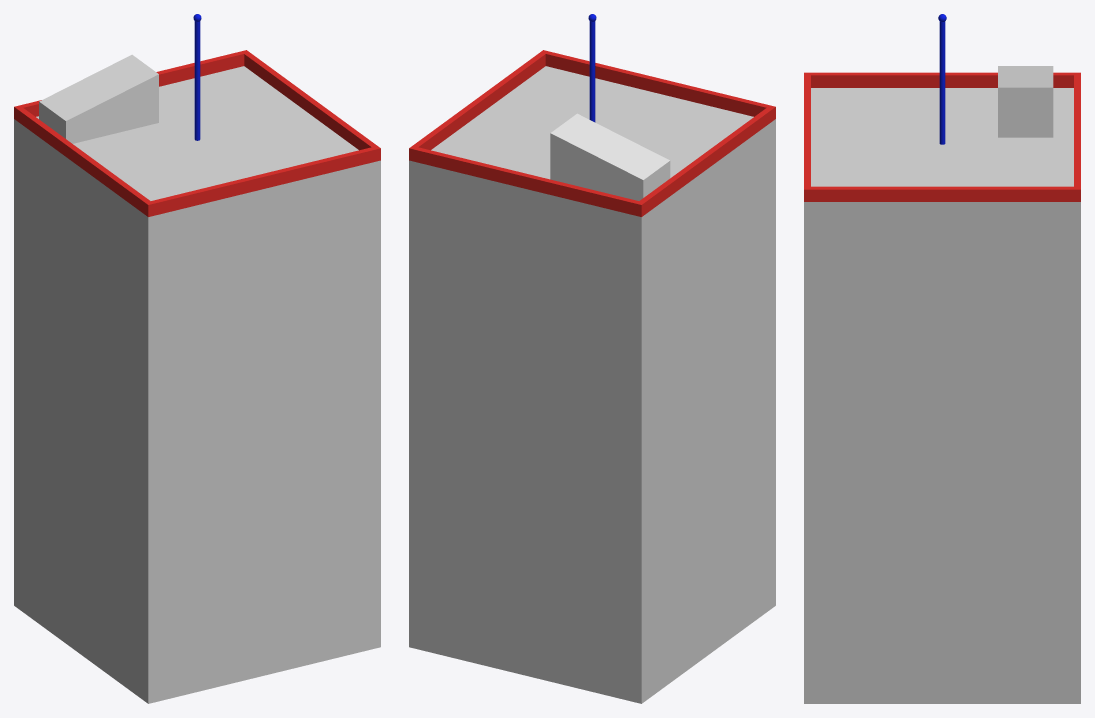
The model's file is Hochaus_1.fbx.
The picture shows the model from 3 angles, left to right: view 1: azimuth 30°, elevation 25°; view 2: azimuth 150°, elevation 25°; view 3: azimuth 270°, elevation 25°; orthographic projection. The views are drawn at different scales.
Visible parts, largest first — view 1: Hochhaus; view 2: Hochhaus; view 3: Hochhaus.
Part boxes in pixels (x1,y1,x2,y2): Hochhaus: [14, 14, 380, 703]; Hochhaus: [409, 14, 775, 703]; Hochhaus: [804, 14, 1080, 703].
Bounding box in the file's own units: 2000 × 5030 × 2000.
